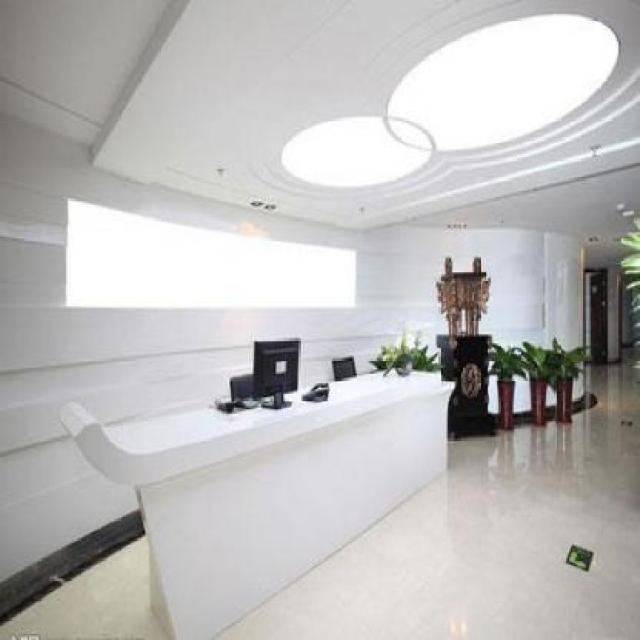frontdesk: (52, 323, 458, 640)
